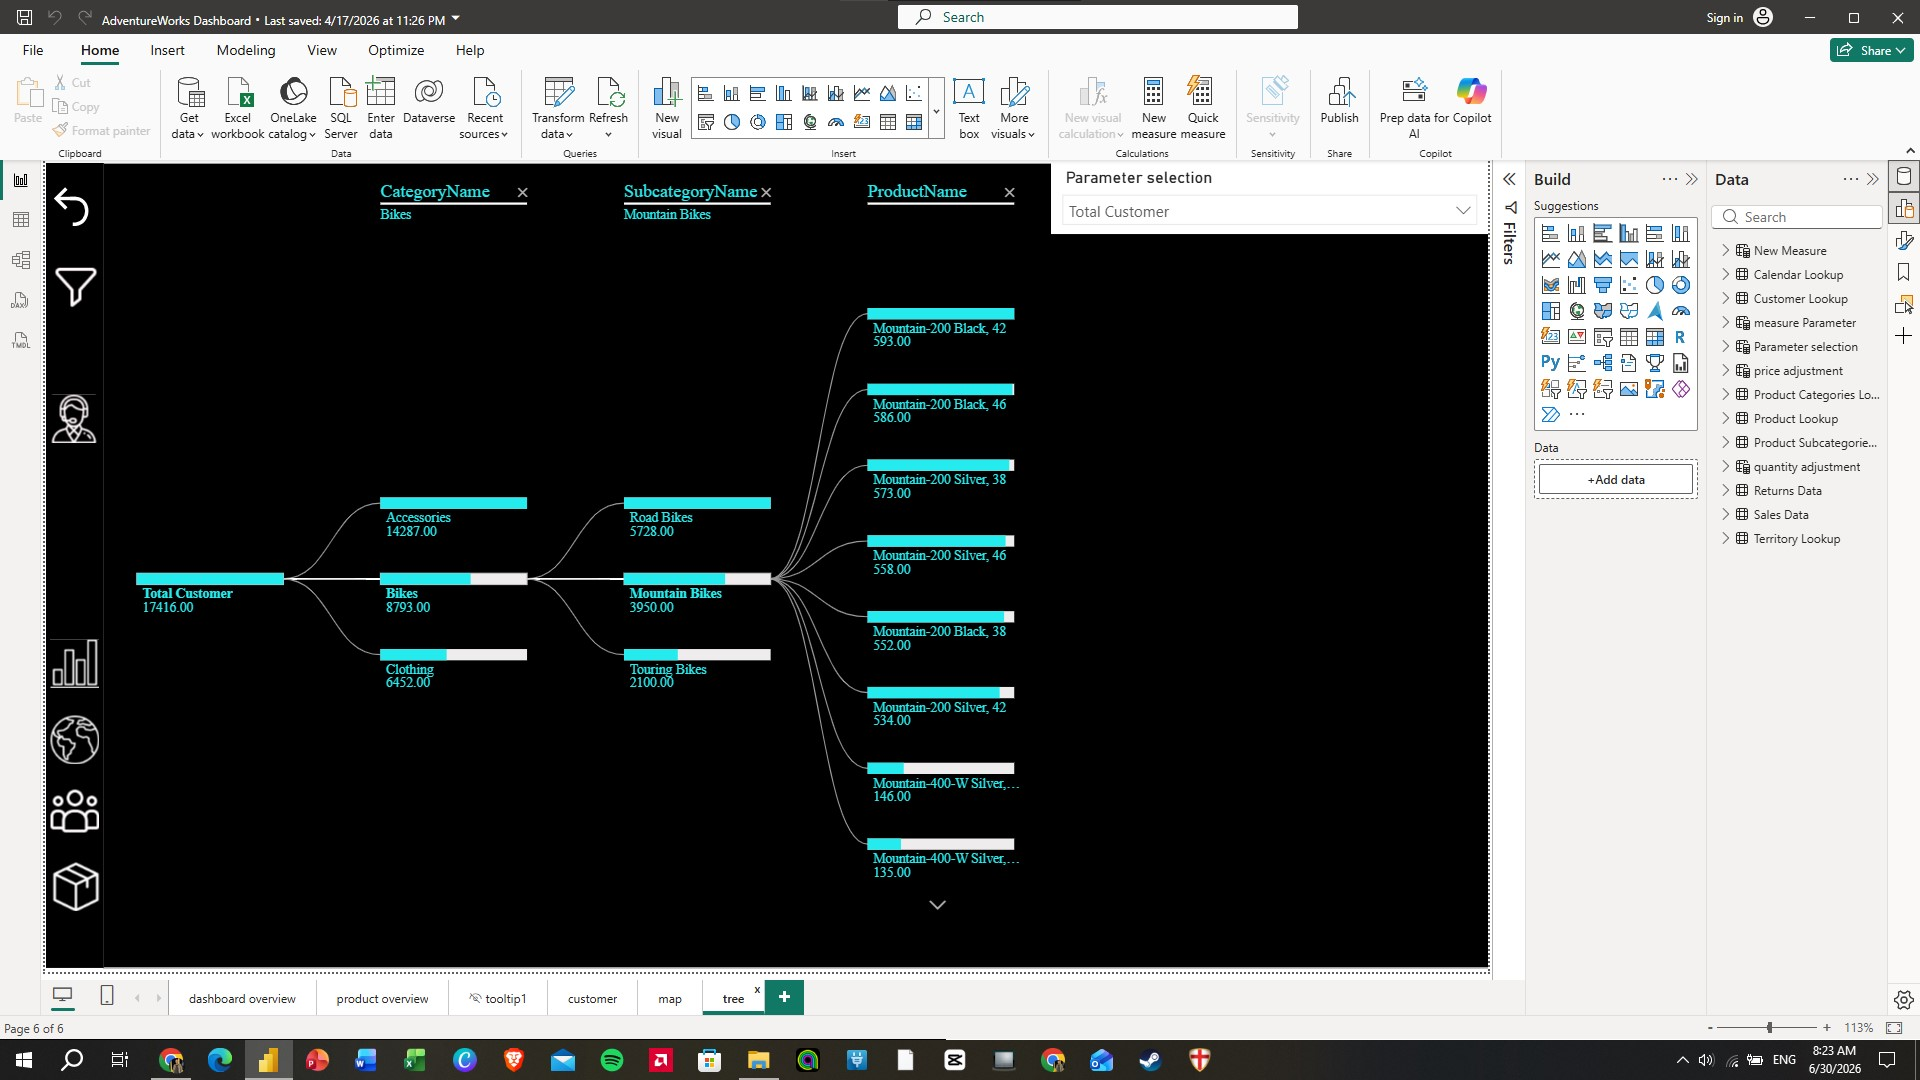

The dashboard page shown, as its layout file describes it:
{"tool":"powerbi","page":{"name":"tree","canvas":[1280,720],"ordinal":5},"visuals":[{"type":"shape","title":"side bar","box":[1,3,51.4,713.6],"z":0,"group":"g1"},{"type":"group","id":"g1","title":"Group 6","box":[1,3,52.4,713.6],"z":0,"group":"g3"},{"type":"decompositionTreeVisual","fields":{"Analyze":["New Measure.Total Customer"],"ExplainBy":["Product Categories Lookup.CategoryName","Product Subcategories Lookup.SubcategoryName","Product Lookup.ProductName"]},"box":[51.4,3,1228.6,713.6],"z":0,"group":"g2"},{"type":"group","id":"g2","title":"tree","box":[51.4,3,1228.6,713.6],"z":0},{"type":"group","id":"g3","title":"toolbar","box":[0,3,53.4,713.6],"z":1000},{"type":"slicer","title":"parameter customer","fields":{"Values":["Parameter selection.Parameter selection"]},"box":[891.6,3,388.4,63.3],"z":1000,"group":"g2"},{"type":"actionButton","title":"back","box":[1,18.8,52.3,45.2],"z":1000,"group":"g1"},{"type":"actionButton","box":[0,196.5,51.4,67.5],"z":1000,"group":"g3"},{"type":"actionButton","title":"map button","box":[1,480.8,51.4,67.4],"z":2000,"group":"g1"},{"type":"actionButton","title":"dashboard","box":[1,413.4,51.4,67.4],"z":3000,"group":"g1"},{"type":"actionButton","title":"customer","box":[1,543.7,51.4,67.4],"z":4000,"group":"g1"},{"type":"actionButton","title":"product","box":[1.9,611.1,51.4,67.4],"z":5000,"group":"g1"},{"type":"actionButton","box":[2,84.6,51.4,54.4],"z":6000,"group":"g1"}]}

Visuals, with their boxes on the page's 1280x720 design canvas (x1, y1, x2, y2). These are canvas units, not pixel positions in the 1920x1080 screenshot, which may show the page scaled, cropped or inside an application window:
"side bar" shape: select_region(1, 3, 52, 717)
"Group 6" group: select_region(1, 3, 53, 717)
decompositionTreeVisual - New Measure.Total Customer x Product Categories Lookup.CategoryName: select_region(51, 3, 1280, 717)
"tree" group: select_region(51, 3, 1280, 717)
"toolbar" group: select_region(0, 3, 53, 717)
"parameter customer" slicer: select_region(892, 3, 1280, 66)
"back" actionButton: select_region(1, 19, 53, 64)
actionButton: select_region(0, 196, 51, 264)
"map button" actionButton: select_region(1, 481, 52, 548)
"dashboard" actionButton: select_region(1, 413, 52, 481)
"customer" actionButton: select_region(1, 544, 52, 611)
"product" actionButton: select_region(2, 611, 53, 678)
actionButton: select_region(2, 85, 53, 139)
